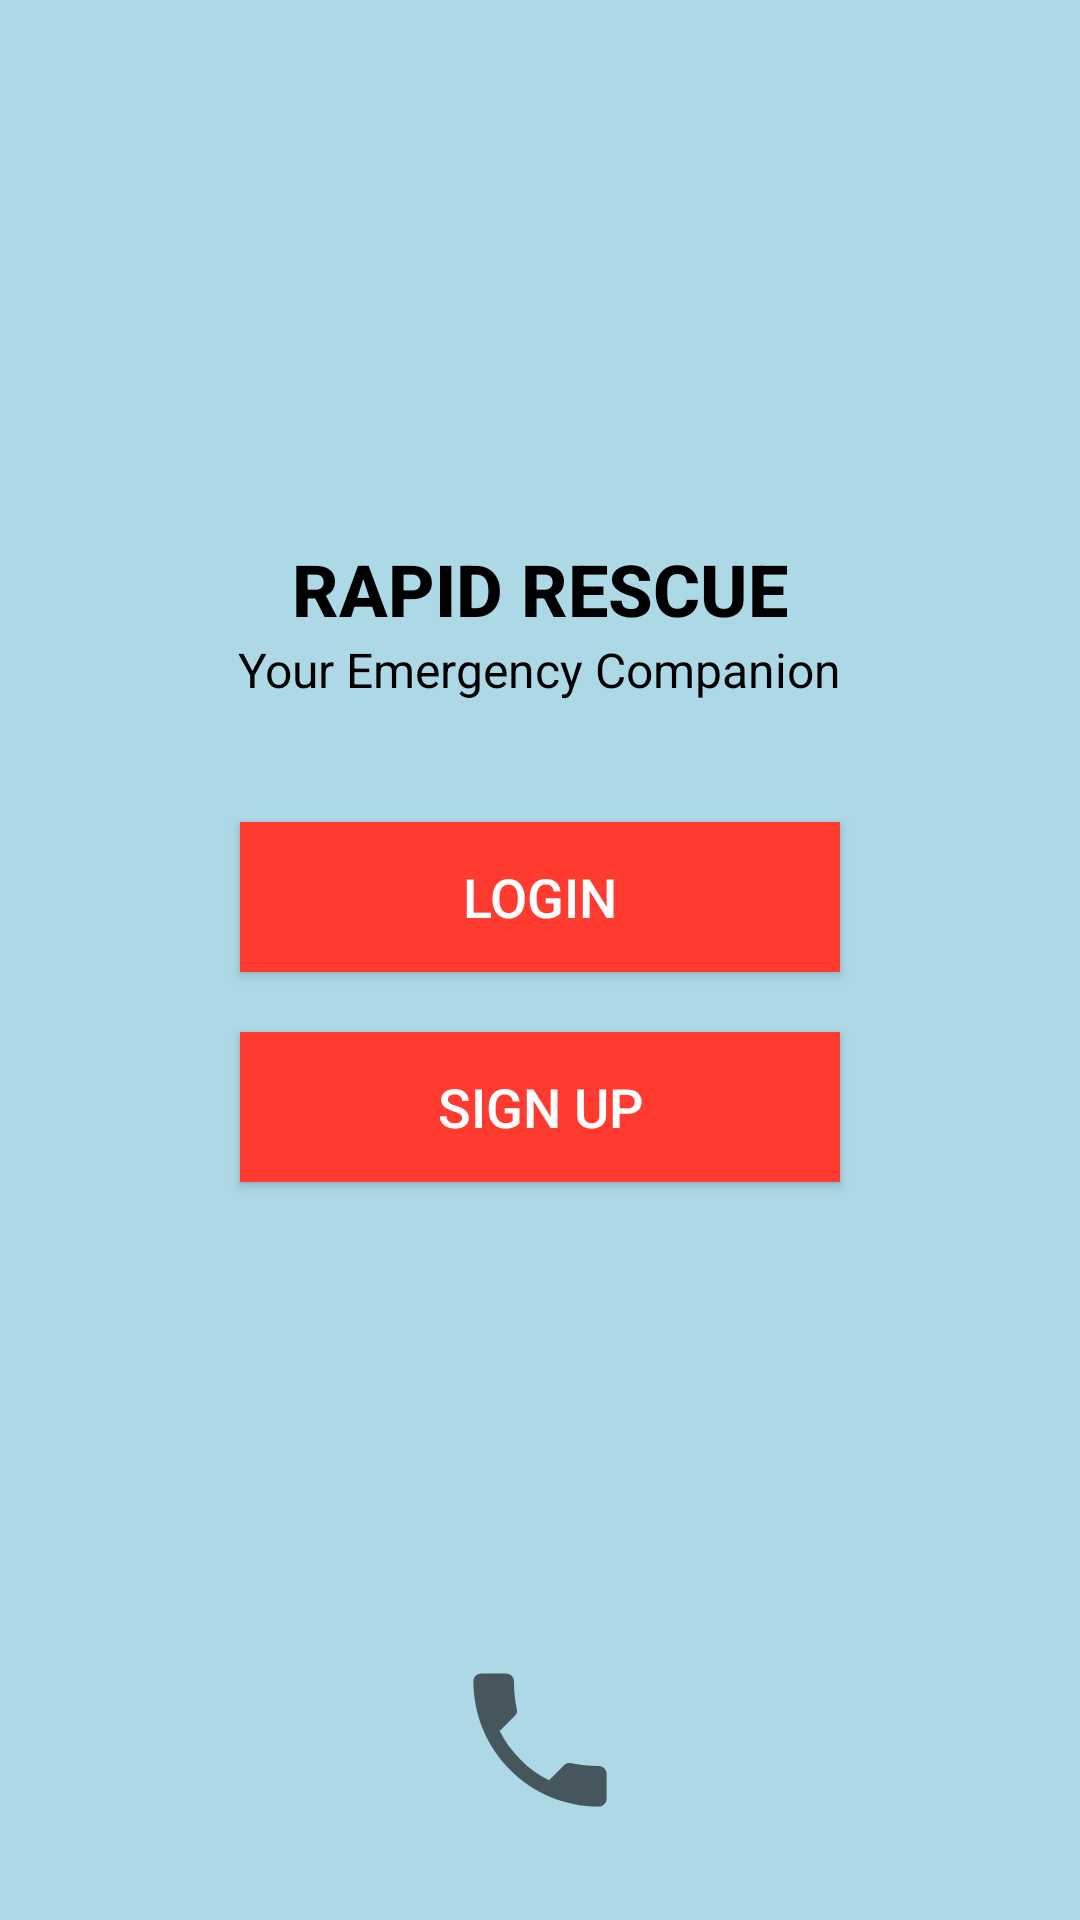

Icon bounding boxes for this 1080x1920 phone screenshot, format (x1,y1,x2,y2):
Emergency Call: (473,1673,607,1807)
